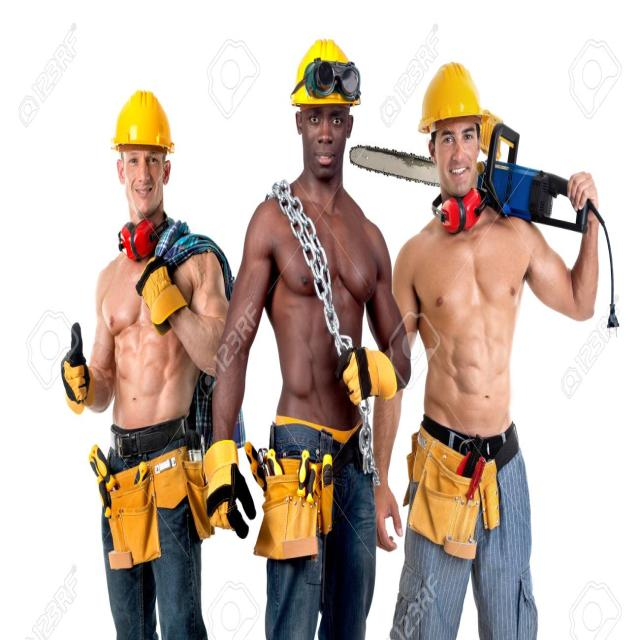gloves: (198, 438, 256, 538), (136, 255, 186, 329), (338, 343, 398, 404), (60, 316, 91, 412)
helmet: (290, 39, 363, 113), (418, 60, 488, 130), (112, 86, 173, 156)
